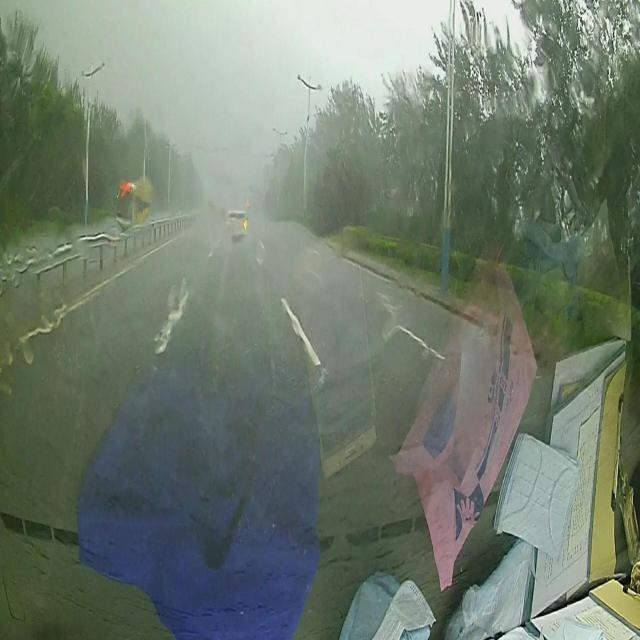car: (224, 208, 246, 242)
